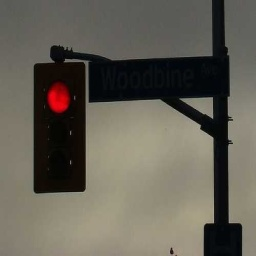traffic light: (34, 62, 86, 194)
